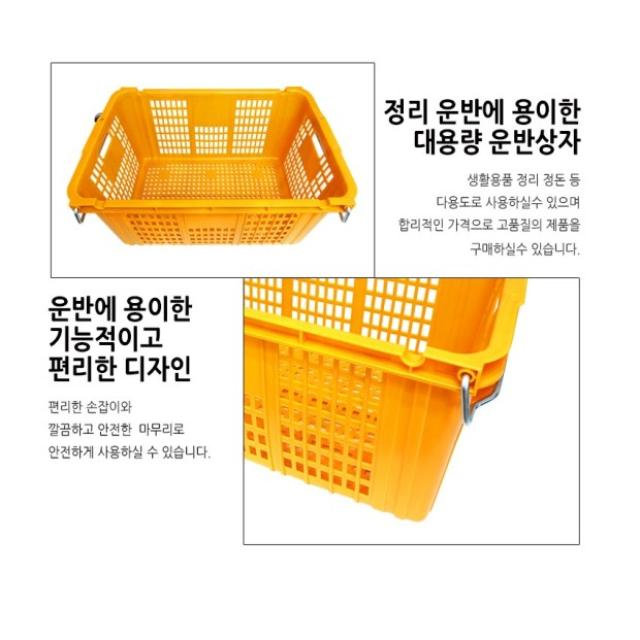basket: (246, 279, 527, 521), (68, 87, 355, 245)
